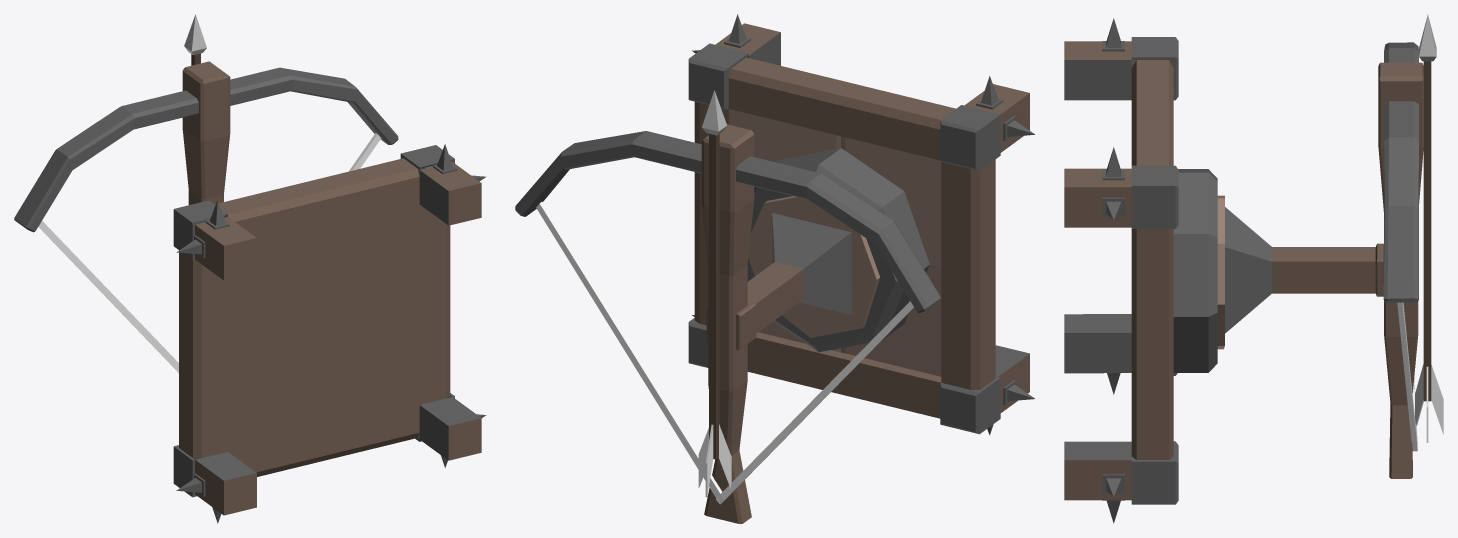
The model's file is ballestaCorregido.fbx.
3 renders of one model, left to right at view 1: azimuth 30°, elevation 25°; view 2: azimuth 150°, elevation 25°; view 3: azimuth 270°, elevation 25°, orthographic. The views are drawn at different scales.
Visible parts, largest first — view 1: Flecha; view 2: Flecha; view 3: Flecha.
Boxes of the visible parts, x1,y1,x2,y2 form: Flecha: [14, 14, 486, 523]; Flecha: [515, 14, 1034, 523]; Flecha: [1064, 14, 1443, 523].
Bounding box in the file's own units: 38.24 × 38.5 × 29.04.
